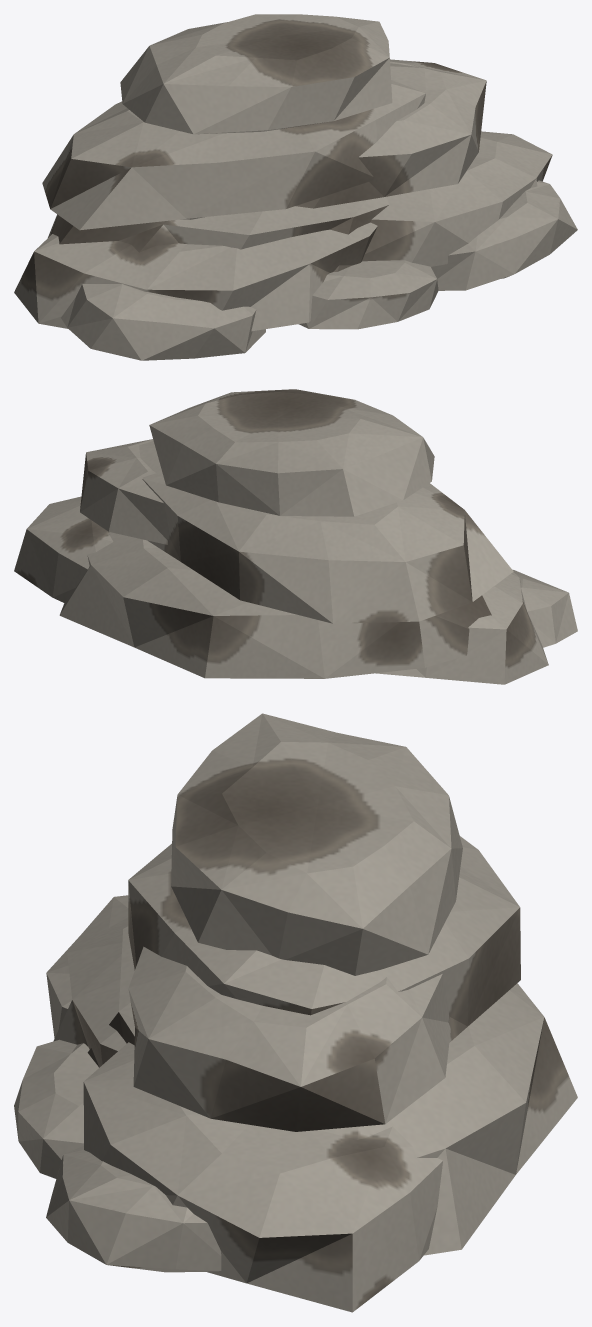
The model's file is CommonStone_Deposit_A.glb.
3 views of the same model, one above another, from view 1: azimuth 30°, elevation 25°; view 2: azimuth 150°, elevation 25°; view 3: azimuth 270°, elevation 25° (orthographic). The views are drawn at different scales.
Visible parts, largest first — view 1: CommonStone_Deposit_A_LOD0; view 2: CommonStone_Deposit_A_LOD0; view 3: CommonStone_Deposit_A_LOD0.
Boxes of the visible parts, bbox=[...] form: CommonStone_Deposit_A_LOD0: bbox=[14, 14, 577, 360]; CommonStone_Deposit_A_LOD0: bbox=[14, 389, 577, 684]; CommonStone_Deposit_A_LOD0: bbox=[14, 713, 577, 1312].
Size of what is drawn, in the model's own units: 3.49 by 1.52 by 2.21.
1 material, 1 textured.
